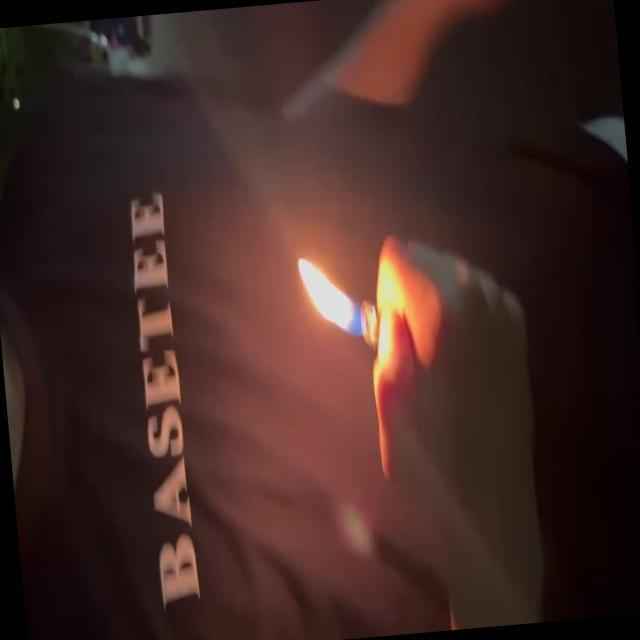Fire: (290, 250, 373, 350)
